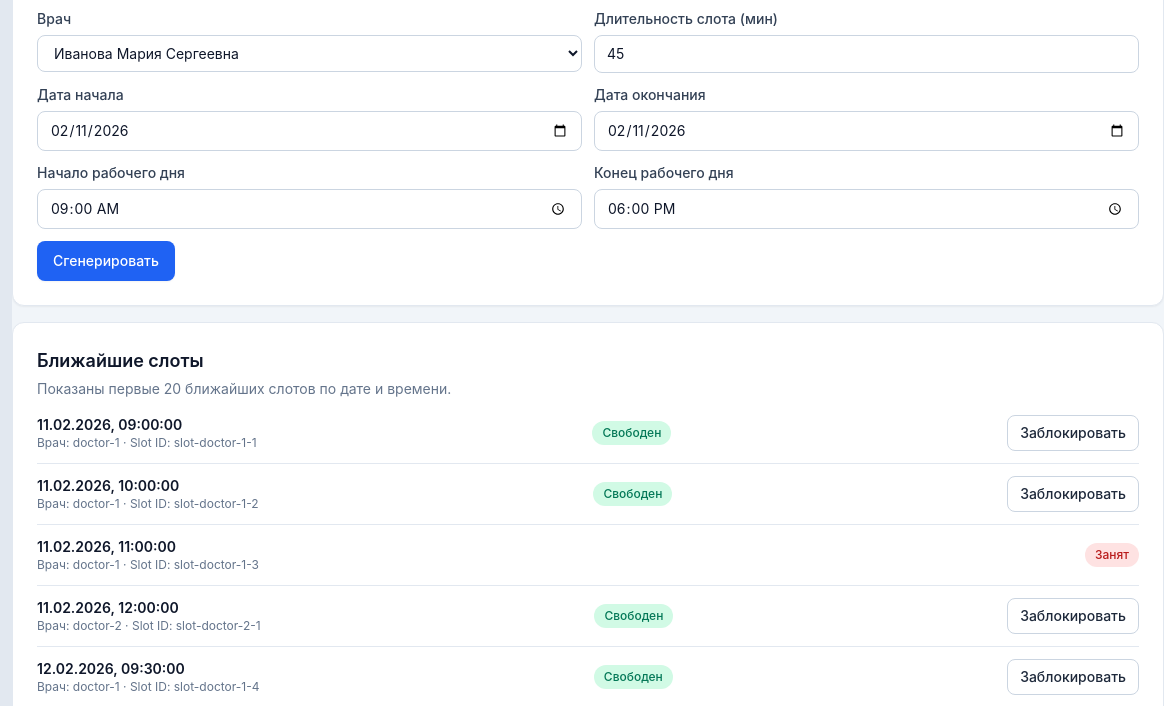
Scenario: AdminSlotsPage integration › блокирует и разблокирует свободный слот с обновлением счетчиков
The width and height of the screenshot is (1164, 706).
(page scrolled)
Expected: the heading "Ближайшие слоты" is shown, [37, 350, 204, 371]
Click the button "Заблокировать" in the row of "slot-doctor-1-1".
click(1073, 433)  # box [1007, 415, 1139, 451]
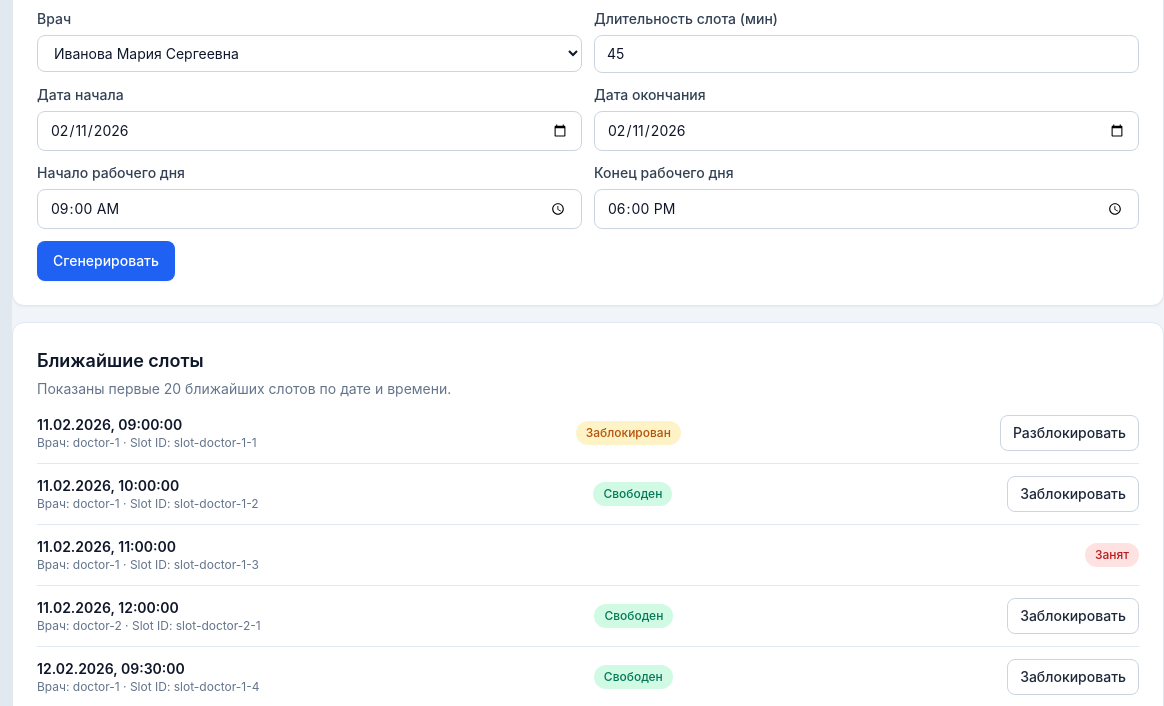
Expected: the button "Разблокировать" is shown
Click the button "Разблокировать".
click(1069, 433)  # box [1000, 415, 1139, 451]
(page scrolled)
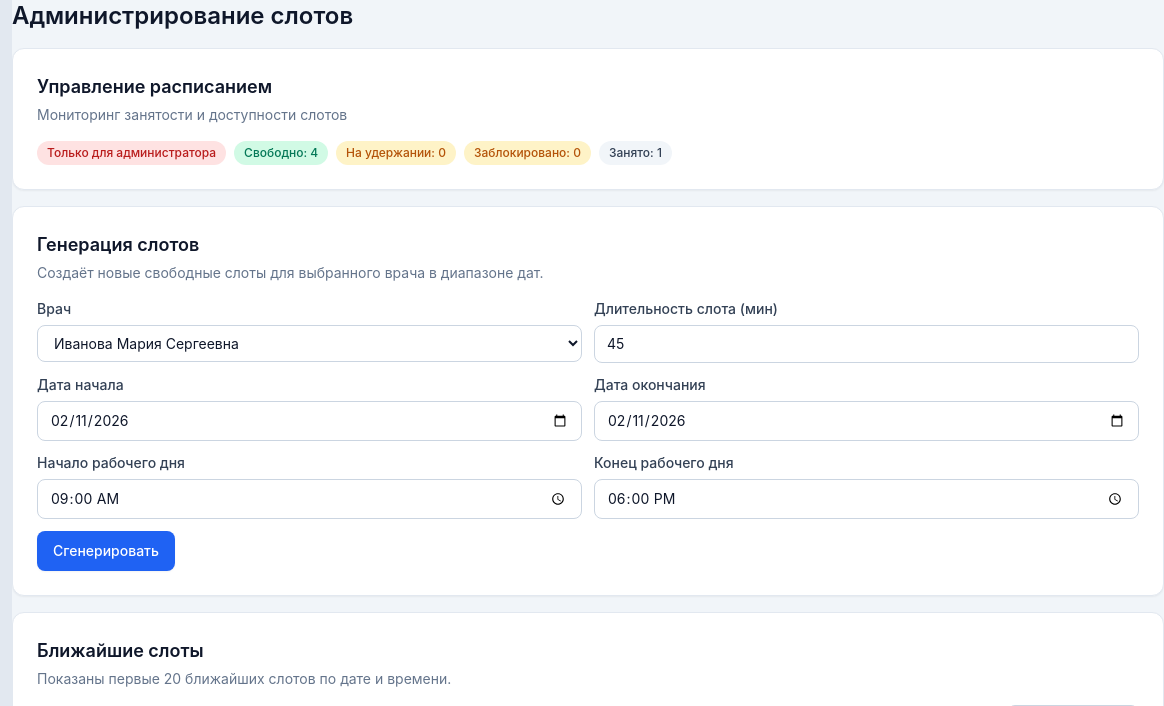
Expected: the text "Свободно: 4" is shown, [234, 141, 328, 165]
Expected: the text "Заблокировано: 0" is shown, [464, 141, 591, 165]
